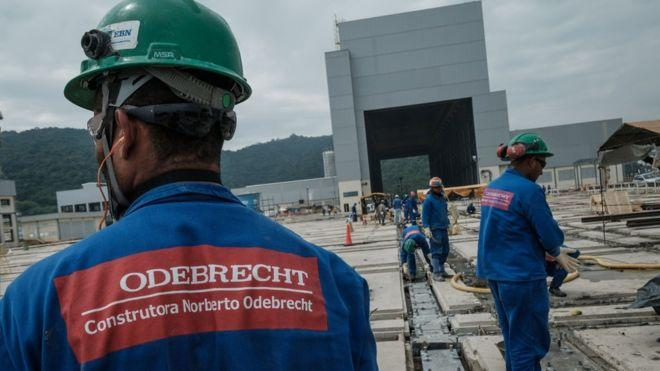helmet: (63, 1, 256, 116), (506, 132, 557, 160), (429, 176, 446, 190), (405, 239, 418, 255)
